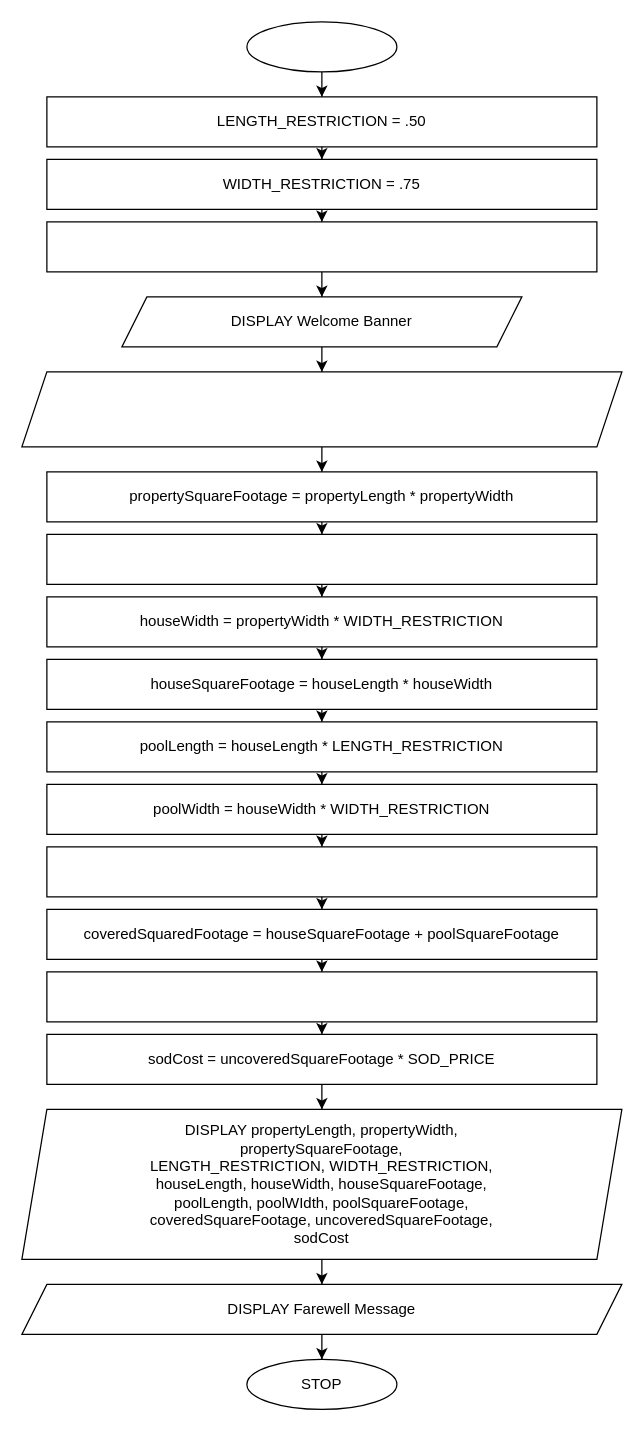
The diagram is 644 pixels wide and 1431 high, and some of its shapes have lost their labels. Each missing label, with the centre of its shape:
houseLength = propertyLength * LENGTH_RESTRICTION: point 321,558
INPUT userName, propertyLength, propertyWidth: point 321,409
poolSquareFootage = poolLength * poolWidth: point 321,871
SOD_PRICE = 1.39: point 321,246
START: point 321,46
uncoveredSquareFootage = propertySquareFootage - coveredSquareFootage: point 321,996
